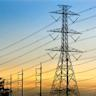power_tower: (46, 4, 86, 96)
